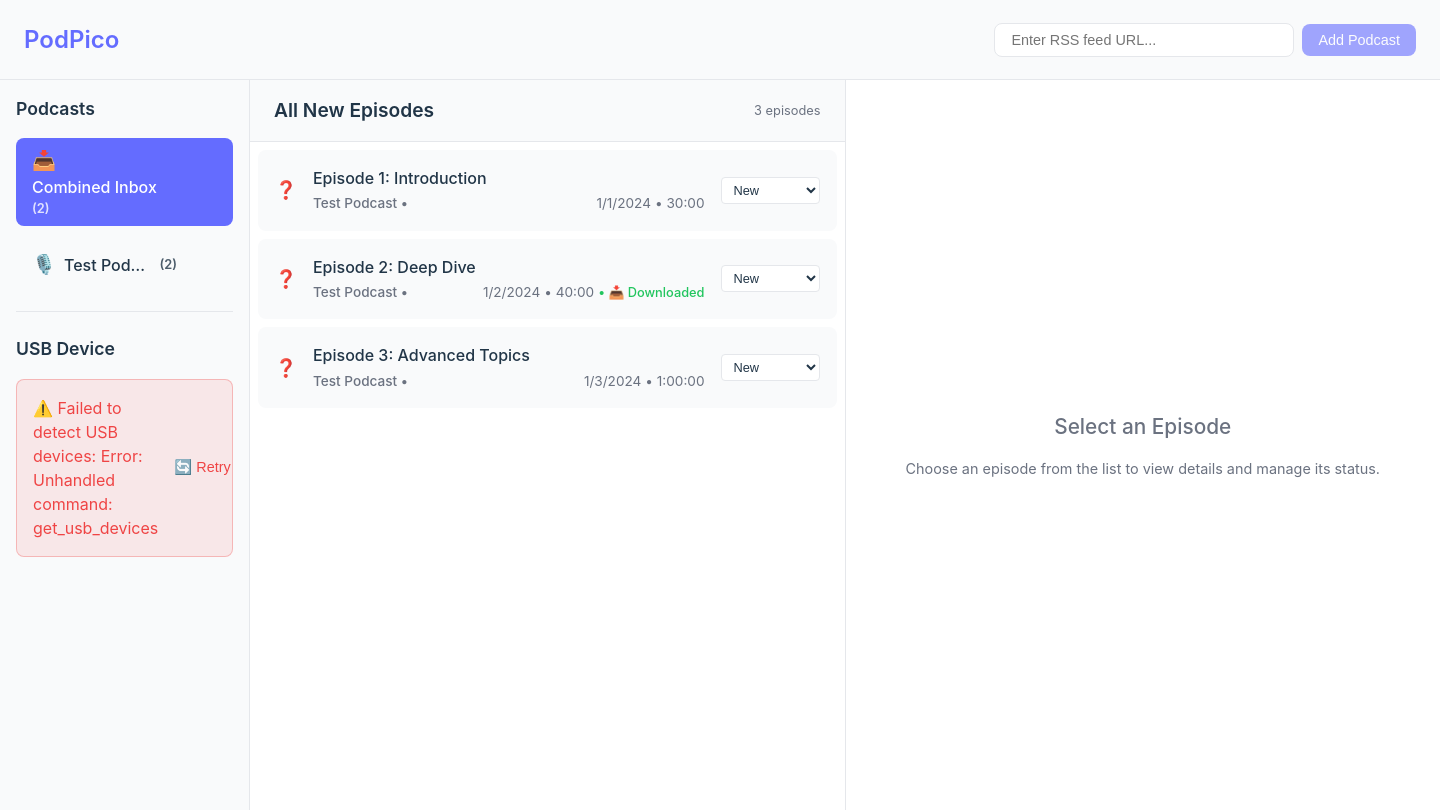
Test: User Story #3: Download Episodes - End-to-End Integration Tests › Complete Download User Journey › should show correct states for downloaded vs undownloaded episodes
Expected: the heading "PodPico" is shown, [24, 22, 119, 58]
Click the text "Test Podcast": (108, 265) [64, 253, 152, 277]
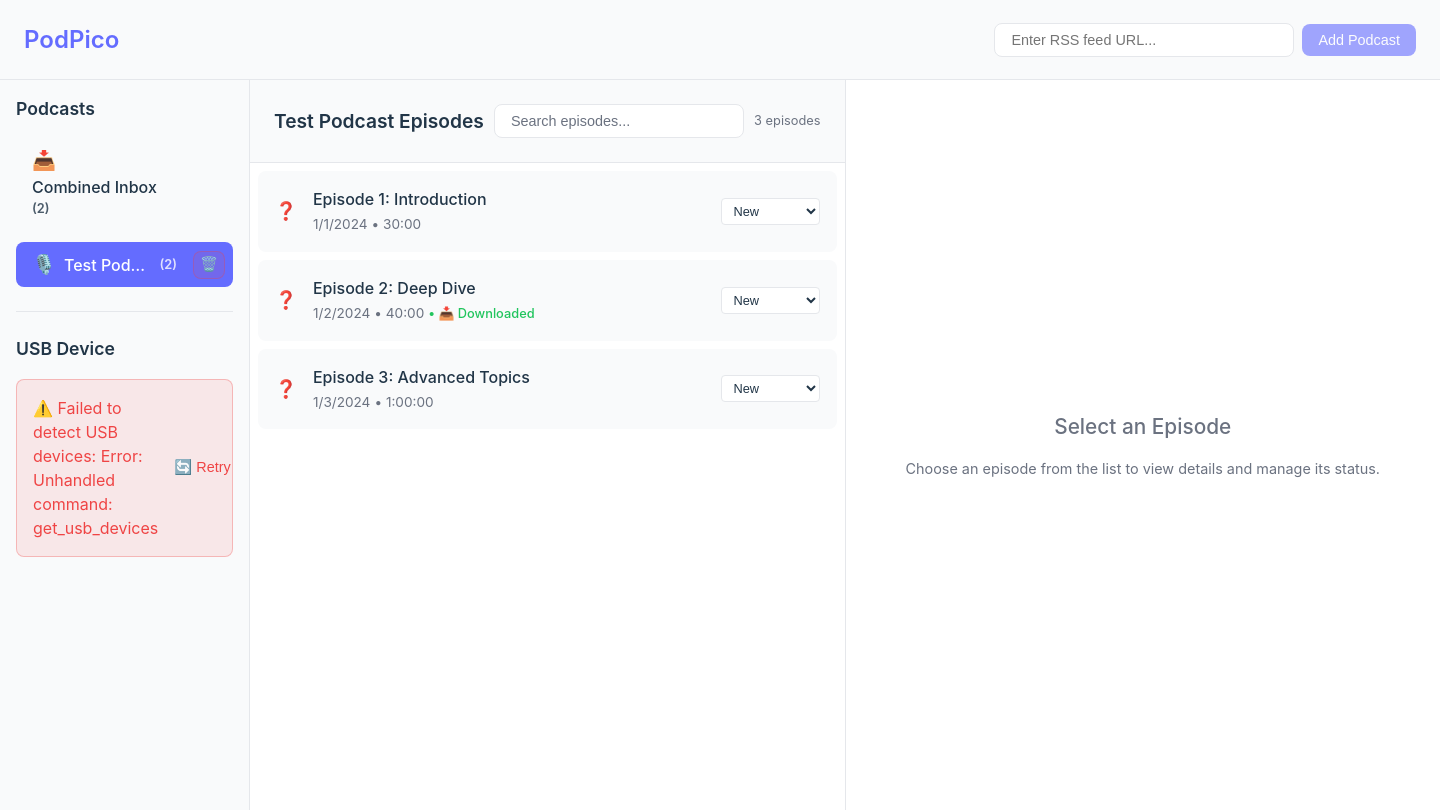
Test undownloaded episode
Click the heading "Episode 1: Introduction": (400, 199) [313, 189, 487, 209]
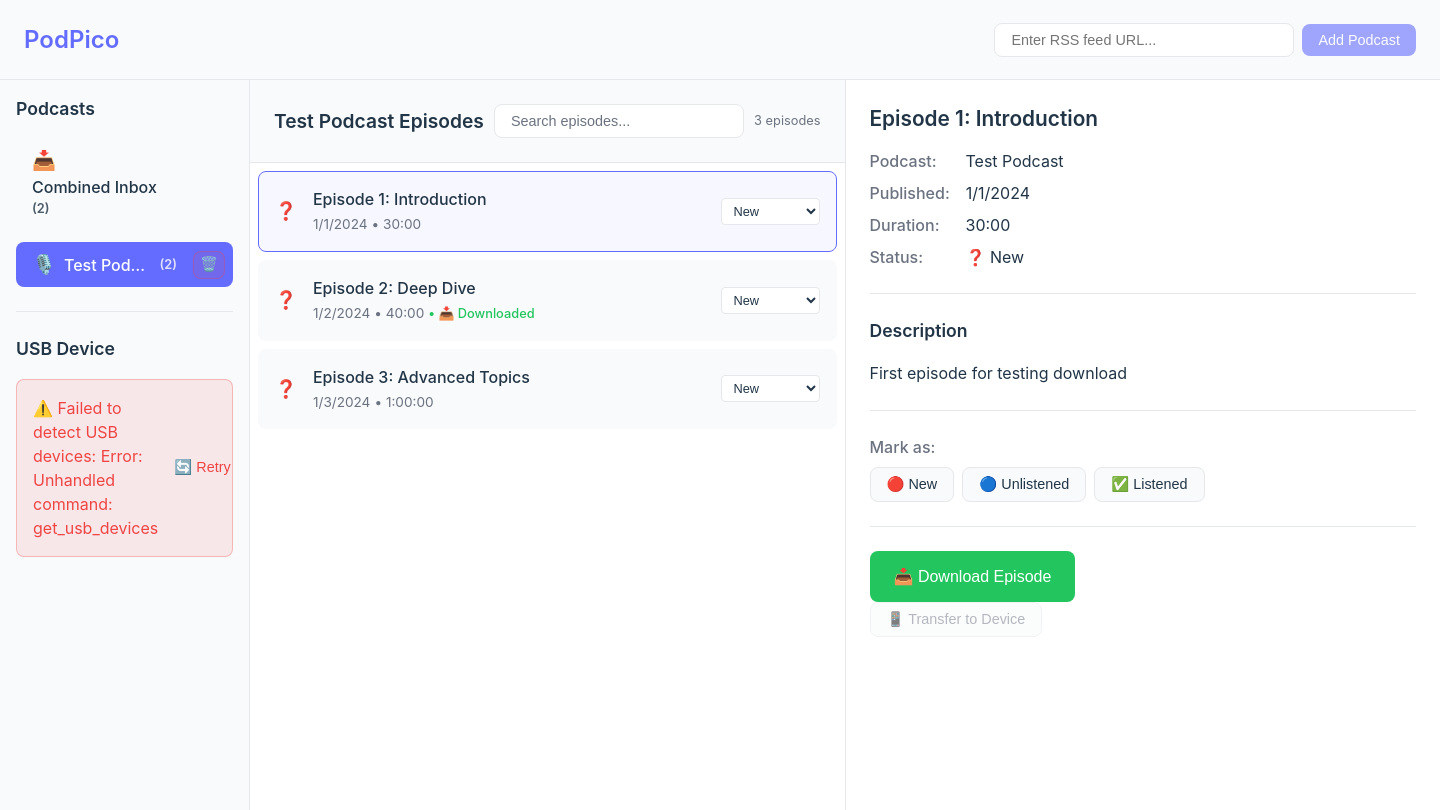
Expected: the text "✅ Downloaded" is not shown
Expected: the button "📥 Download Episode" is shown, [870, 551, 1075, 602]
Test downloaded episode
Click the heading "Episode 2: Deep Dive": (394, 288) [313, 278, 476, 298]
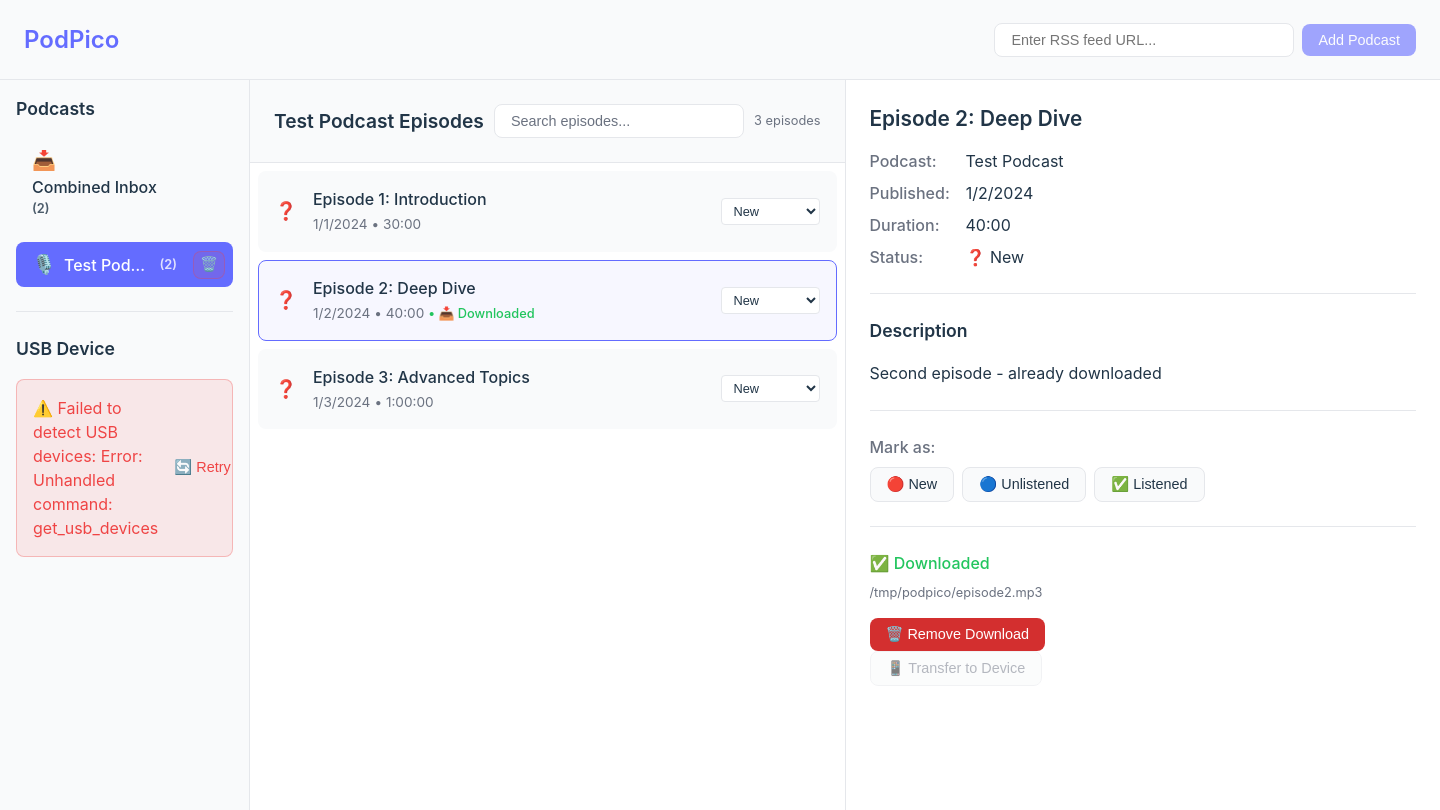
Expected: the text "✅ Downloaded" is shown, [870, 553, 990, 573]
Expected: the text "/tmp/podpico/episode2.mp3" is shown, [870, 585, 1042, 600]
Expected: the button "📥 Download Episode" is gone
